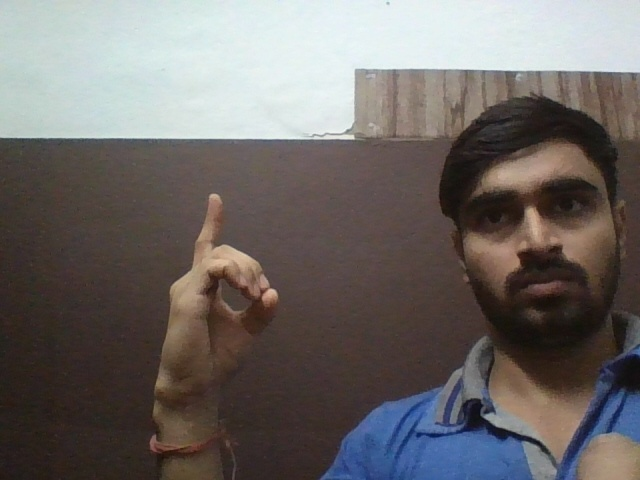D: (154, 188, 288, 379)
